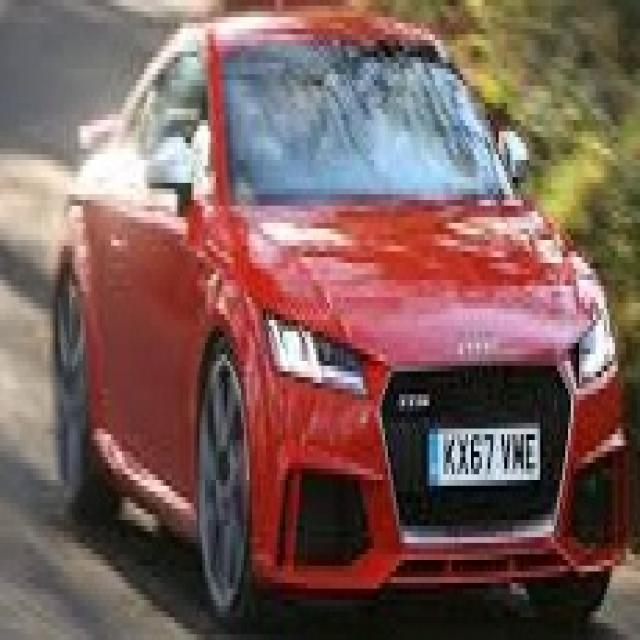red: (43, 1, 631, 628)
